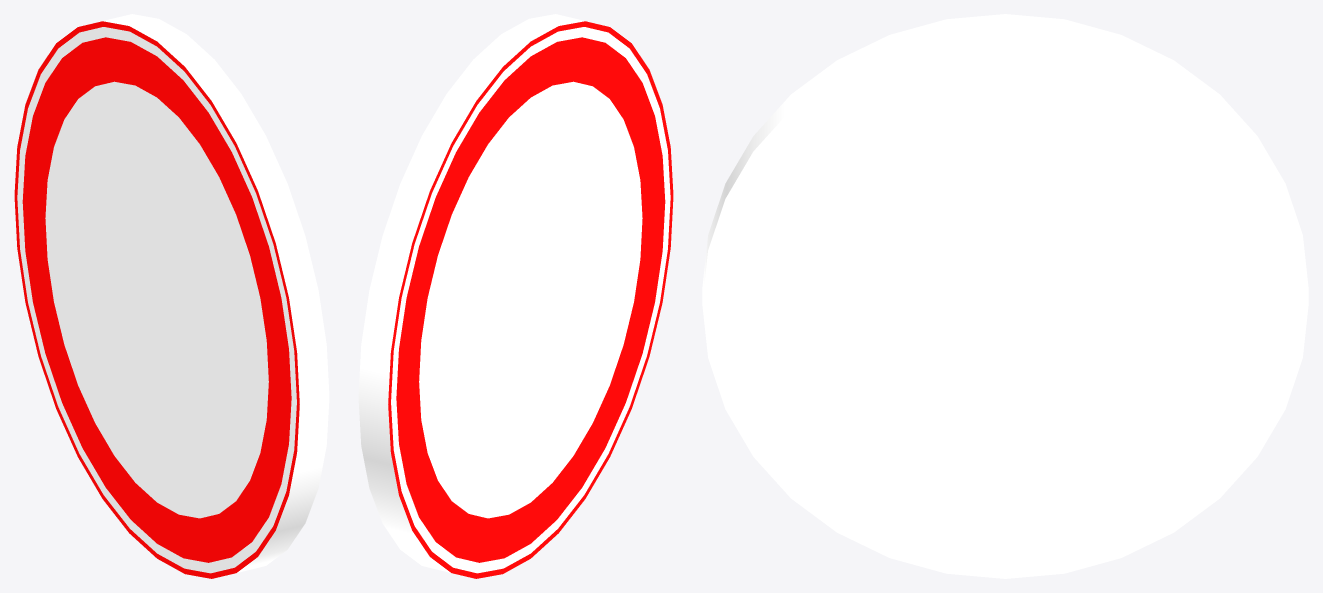
Rendered from No_Passing.glb.
The picture shows the model from 3 angles, left to right: view 1: azimuth 30°, elevation 25°; view 2: azimuth 150°, elevation 25°; view 3: azimuth 270°, elevation 25°; orthographic projection. The views are drawn at different scales.
Visible parts, largest first — view 1: No_Passing; view 2: No_Passing; view 3: No_Passing.
Part boxes in pixels (x1,y1,x2,y2): No_Passing: (14, 14, 329, 578); No_Passing: (358, 14, 673, 578); No_Passing: (702, 14, 1308, 578).
Size of the model in its own units: 0.06 by 1 by 1.
